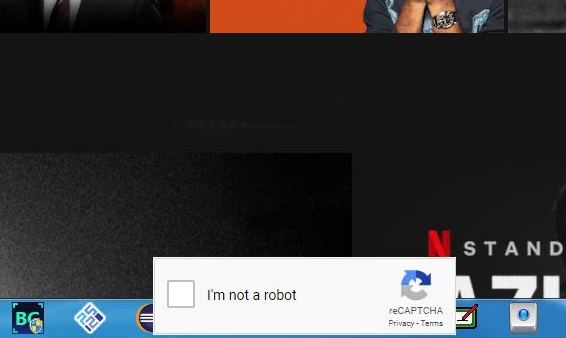captcha: (167, 280, 300, 308)
